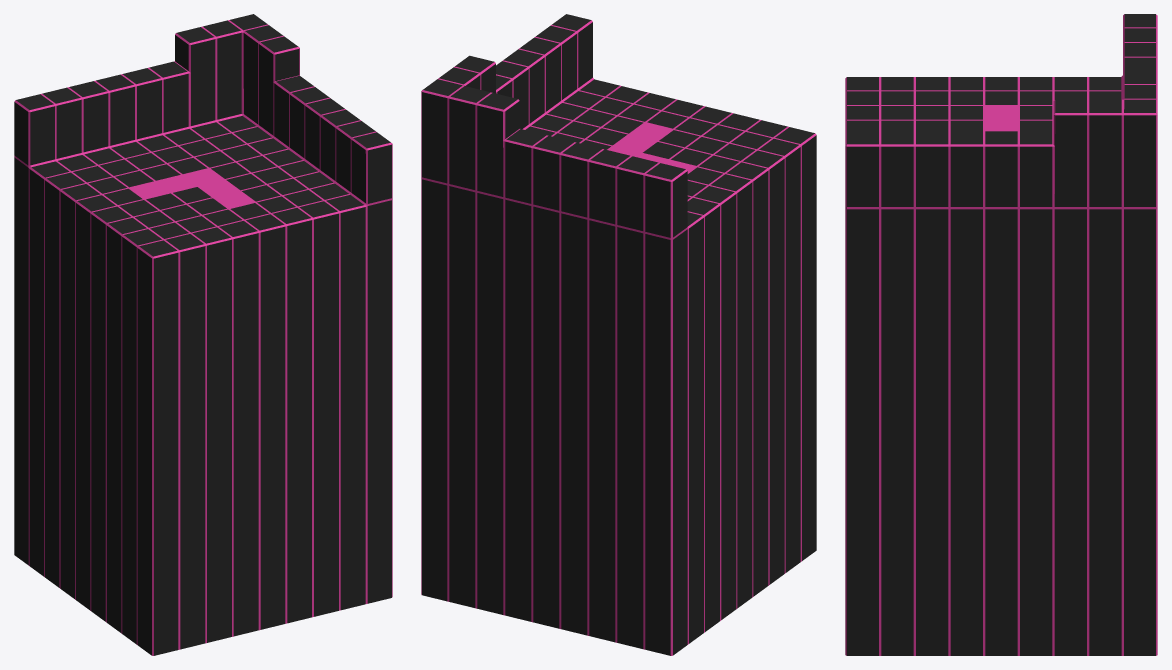
File: Platform3.fbx
The picture shows the model from 3 angles, left to right: view 1: azimuth 30°, elevation 25°; view 2: azimuth 150°, elevation 25°; view 3: azimuth 270°, elevation 25°; orthographic projection. The views are drawn at different scales.
Visible parts, largest first — view 1: polySurface17; view 2: polySurface17; view 3: polySurface17.
Part boxes in pixels (x1,y1,x2,y2): polySurface17: (14, 14, 392, 655); polySurface17: (421, 14, 816, 655); polySurface17: (845, 14, 1157, 655).
Bounding box in the file's own units: 45 × 86.23 × 45.
Materials: 2 (2 with a texture image).
